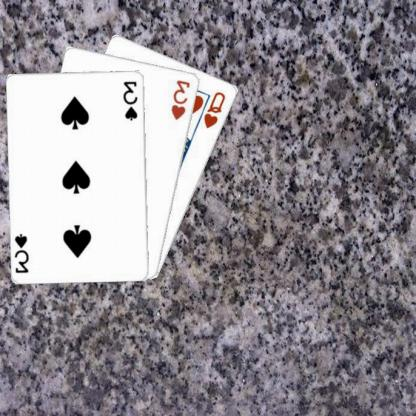3H: (170, 77, 194, 121)
3S: (122, 78, 141, 122), (14, 231, 32, 274)
QH: (203, 89, 229, 130)
